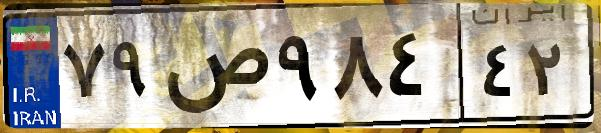2: (525, 38, 570, 115)
4: (385, 28, 445, 110), (475, 38, 525, 113)
7: (57, 26, 110, 100)
8: (330, 28, 385, 110)
9: (270, 28, 330, 110), (110, 28, 158, 98)
ص: (158, 20, 270, 120)
